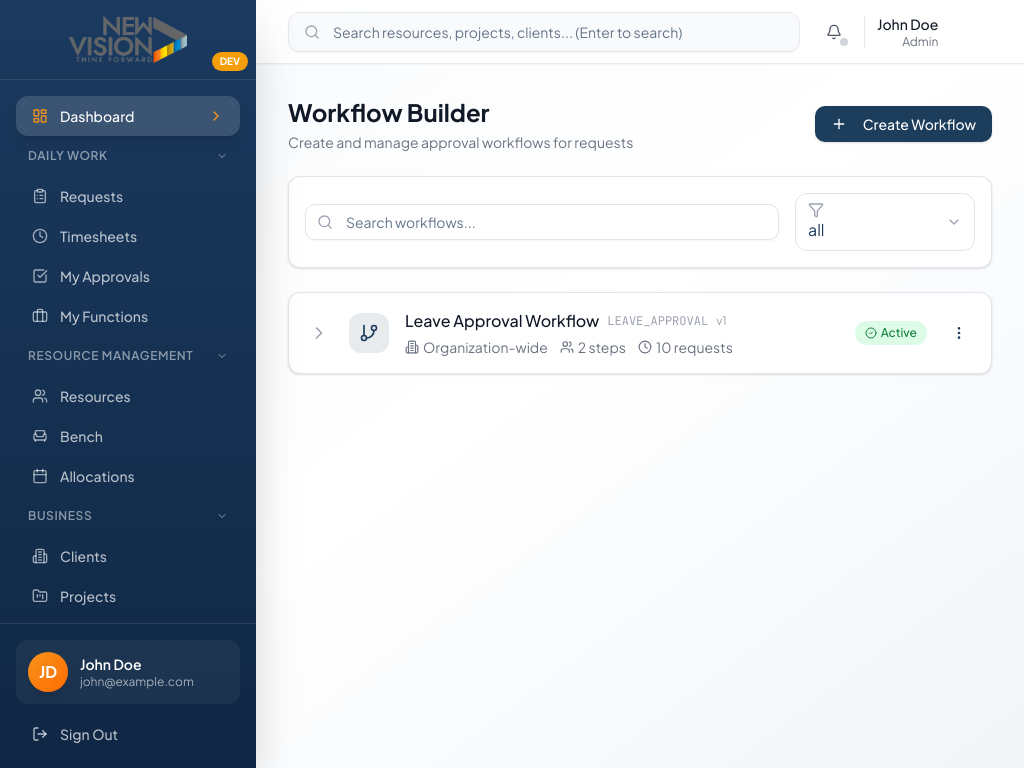
WorkflowBuilderPage › opens editor when create button is clicked
The image size is (1024, 768).
Click the button "Create Workflow" at (903, 124), box [815,106,992,142]
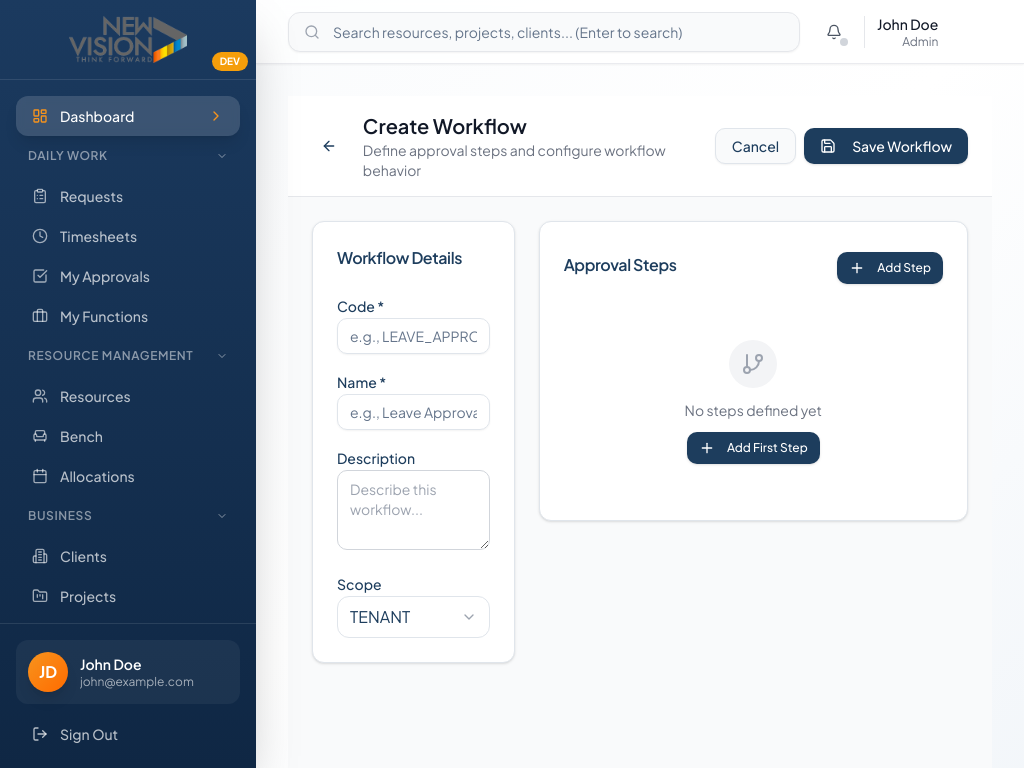
Expected: the heading "Create Workflow" is shown, [363,113,527,138]
Expected: the heading "Workflow Details" is shown, [337,247,462,268]
